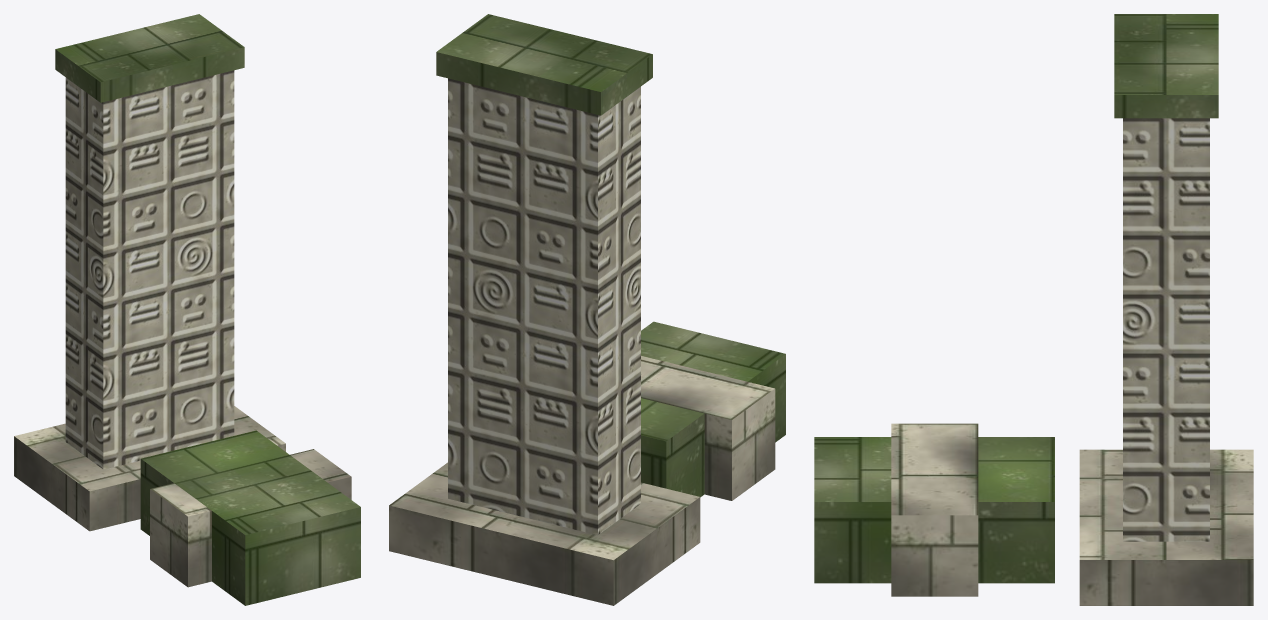
The model's file is ruin-stela.ruins-v1.lod0.glb.
3 renders of one model, left to right at view 1: azimuth 30°, elevation 25°; view 2: azimuth 150°, elevation 25°; view 3: azimuth 270°, elevation 25°, orthographic. The views are drawn at different scales.
Visible parts, largest first — view 1: ruin-stela; view 2: ruin-stela; view 3: ruin-stela.
Boxes of the visible parts, x1=… form: ruin-stela: x1=14, y1=14, x2=360, y2=605; ruin-stela: x1=389, y1=14, x2=785, y2=605; ruin-stela: x1=814, y1=14, x2=1253, y2=605.
Size of the model in its own units: 1.8 by 3.78 by 3.03.
3 materials, 3 textured.
